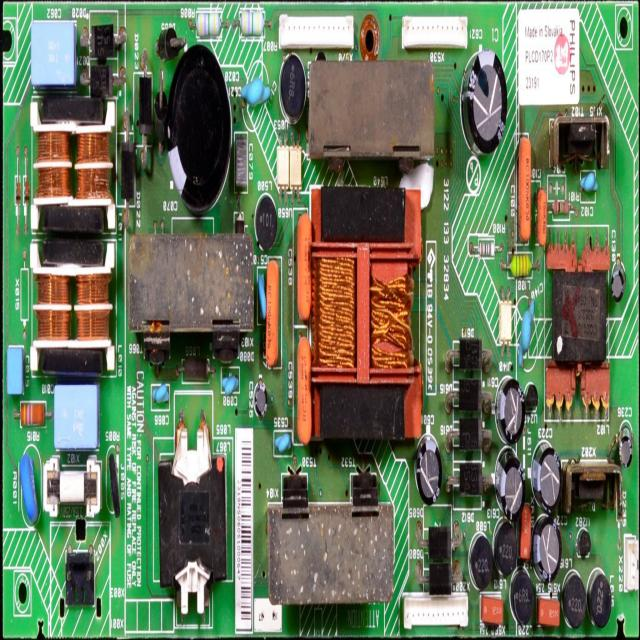Capacitor: (468, 46, 506, 159), (30, 19, 72, 82), (296, 336, 314, 444), (419, 437, 443, 515), (536, 511, 562, 577), (536, 447, 563, 509), (298, 206, 312, 319), (500, 379, 524, 440), (504, 460, 524, 519), (242, 76, 270, 110), (517, 305, 532, 358), (235, 138, 248, 192), (8, 347, 22, 397), (220, 371, 242, 397), (578, 166, 597, 195), (258, 264, 267, 323), (257, 375, 267, 423), (153, 380, 170, 408), (619, 434, 632, 469), (275, 436, 291, 452), (614, 269, 622, 299)
Resistor Network: (21, 455, 38, 530), (238, 2, 268, 40), (21, 397, 46, 427), (197, 14, 222, 42), (466, 239, 496, 260)
